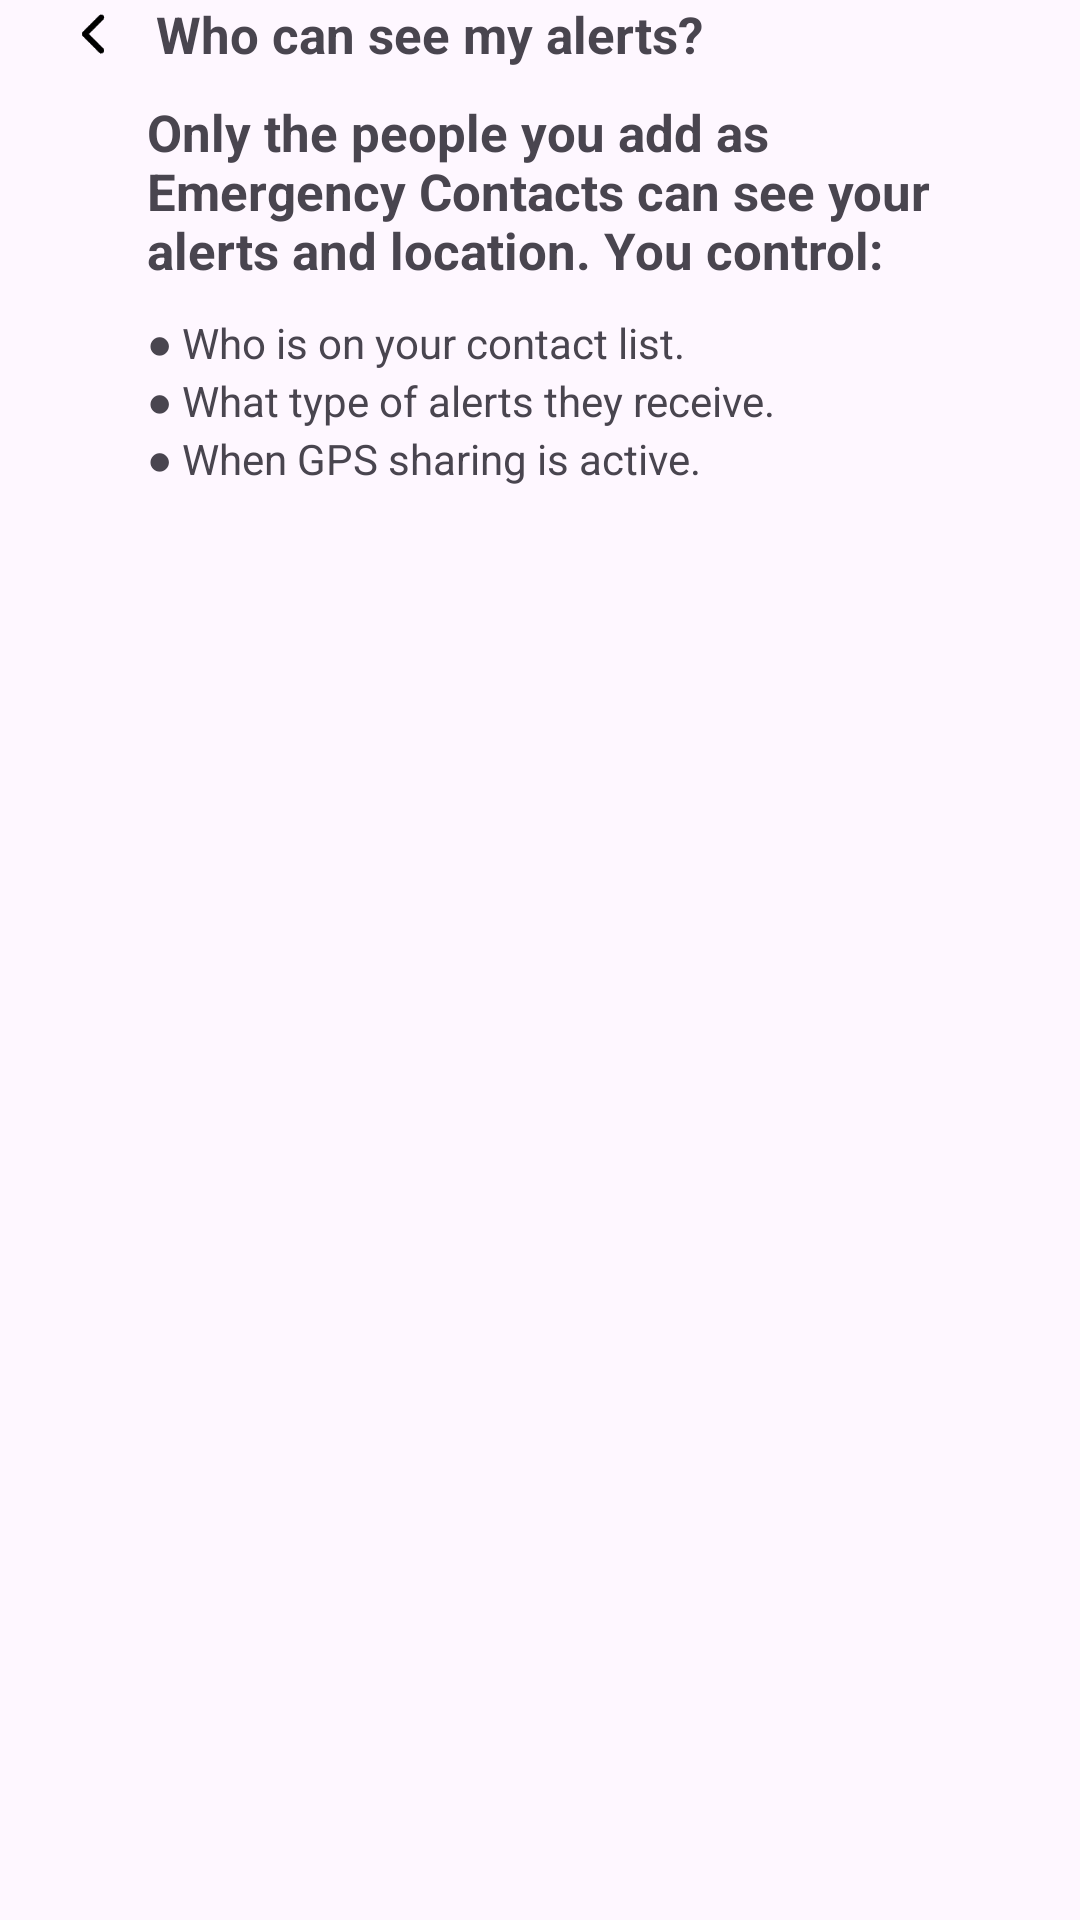

Where to tap for icons on this 1080*1920 app screen, as (x,y):
back: (93,34)
